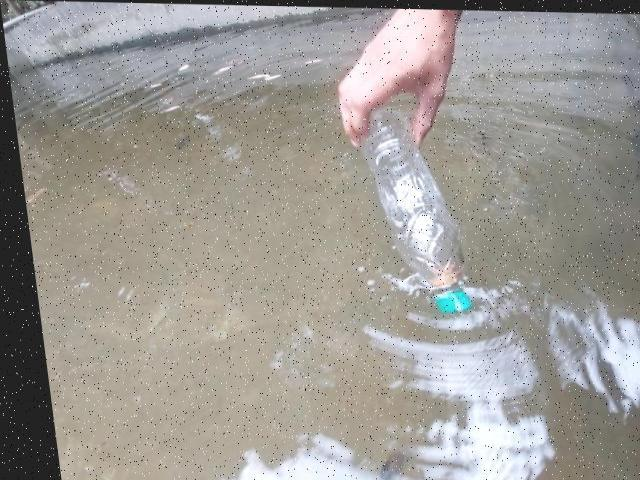Bottle: (339, 105, 482, 321)
